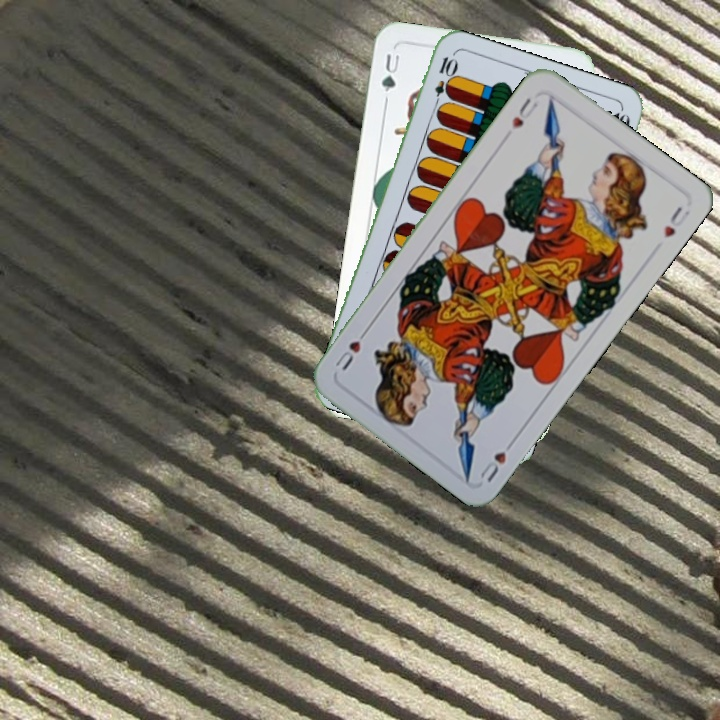E10: (430, 52, 458, 111)
GU: (377, 49, 404, 105)
HU: (476, 434, 519, 486), (507, 93, 541, 133)
